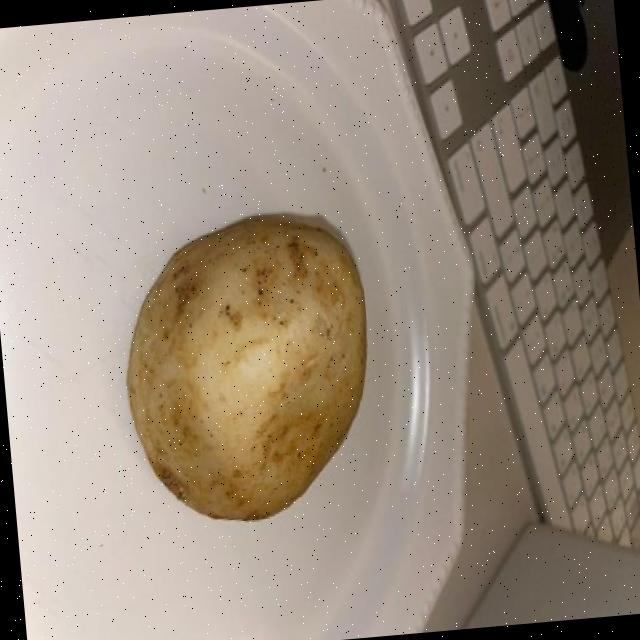Potato: (102, 192, 388, 537)
